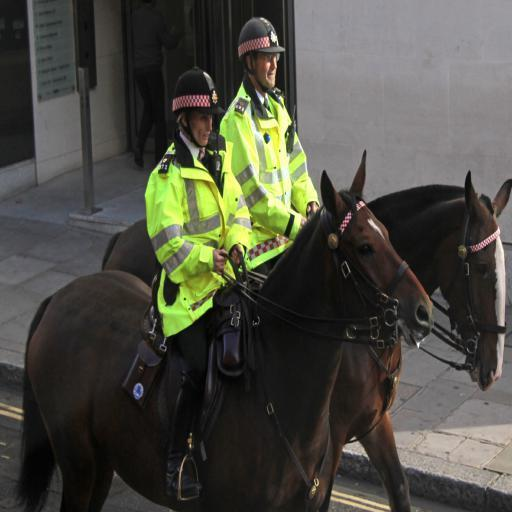horse: (16, 148, 434, 512), (100, 168, 512, 512)
